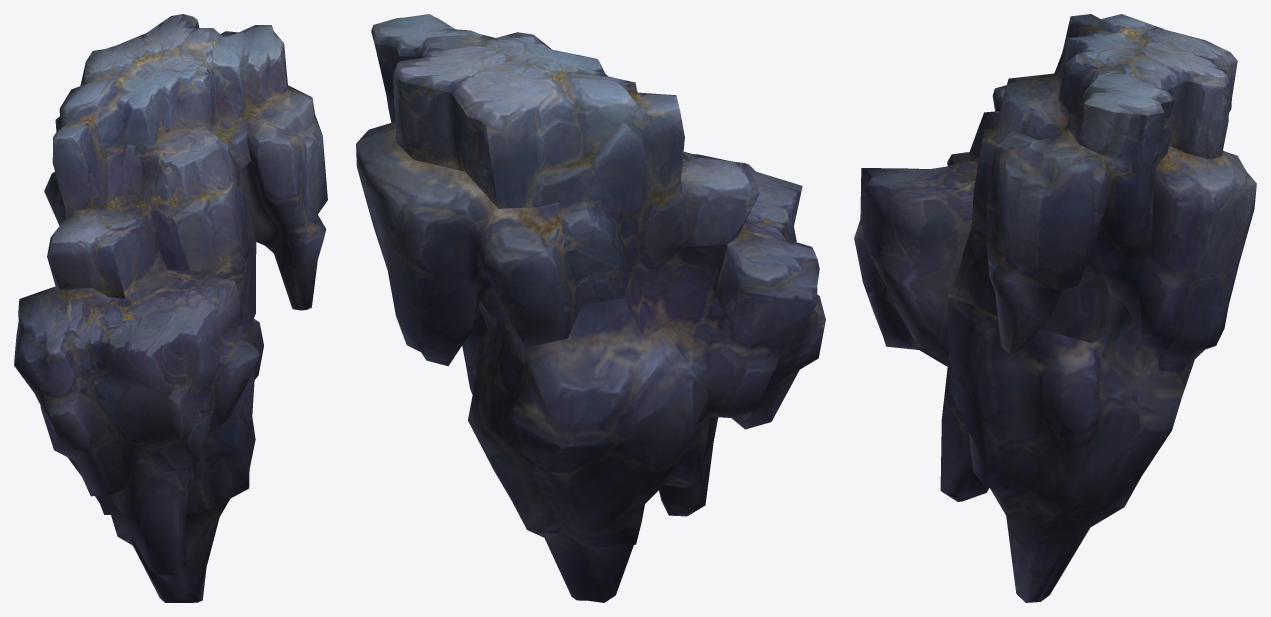
File: Map01_Stone_01C.FBX
The picture shows the model from 3 angles, left to right: view 1: azimuth 30°, elevation 25°; view 2: azimuth 150°, elevation 25°; view 3: azimuth 270°, elevation 25°; orthographic projection. The views are drawn at different scales.
Parts seen in each view (by area): view 1: Map01_Stone_01C; view 2: Map01_Stone_01C; view 3: Map01_Stone_01C.
Part boxes in pixels (box(x1,y1,x2,y2)): Map01_Stone_01C: box(14, 14, 327, 602); Map01_Stone_01C: box(356, 14, 825, 602); Map01_Stone_01C: box(854, 14, 1256, 602).
Bounding box in the file's own units: 991 × 1461 × 938.
